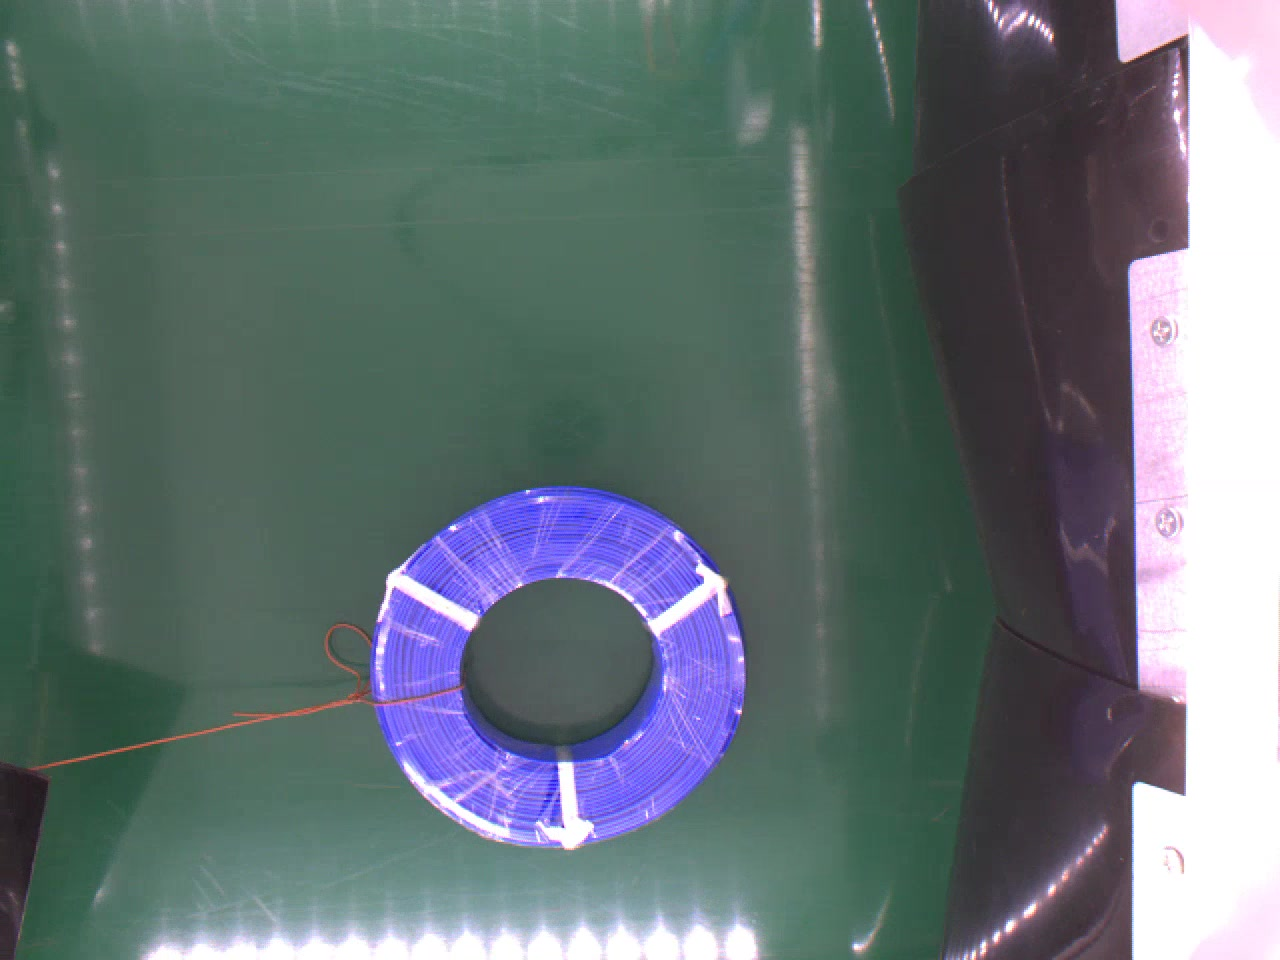blue: (367, 490, 749, 854)
